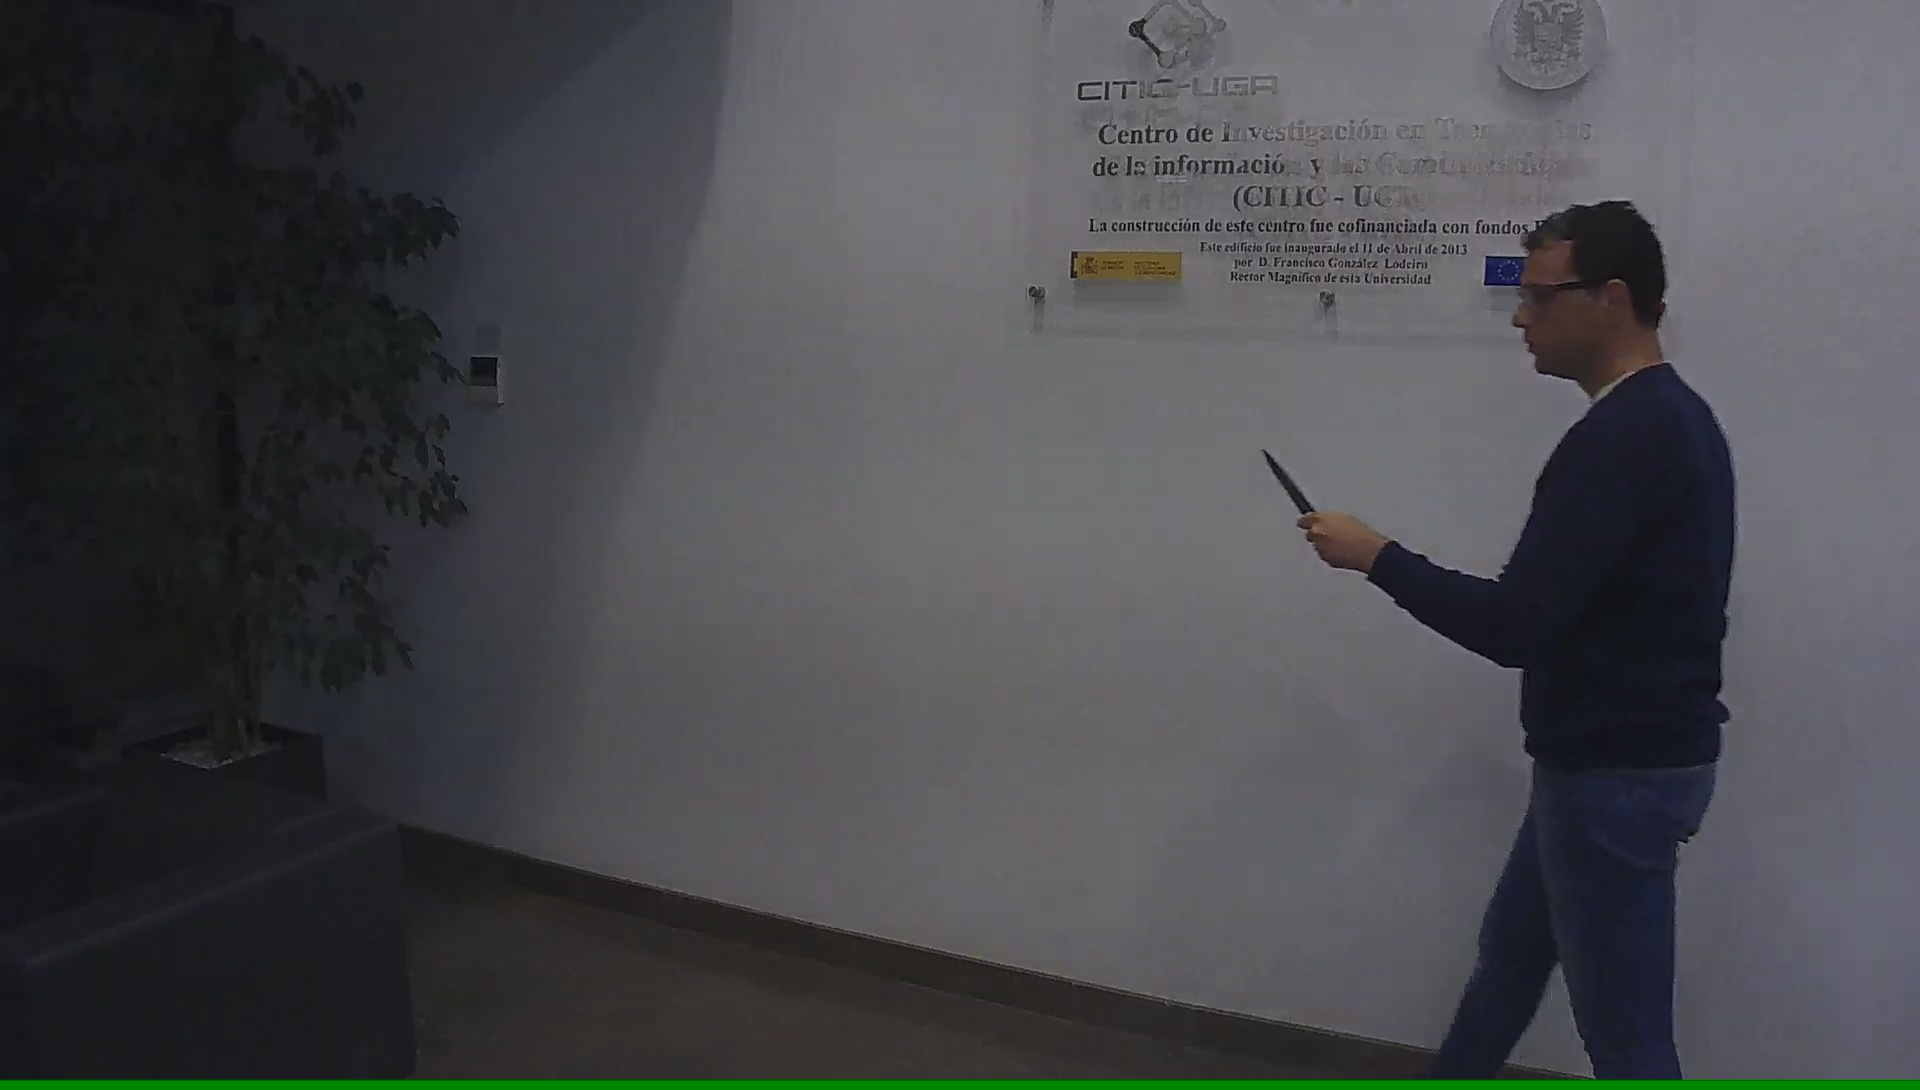knife: (1255, 436, 1354, 577)
